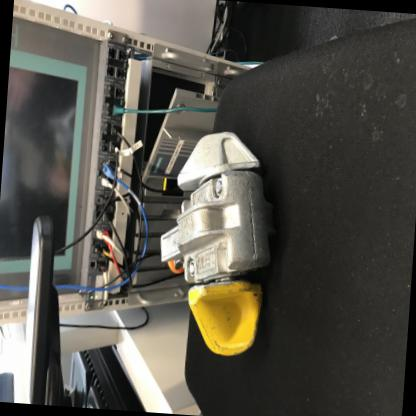Twistlock: (148, 122, 289, 364)
